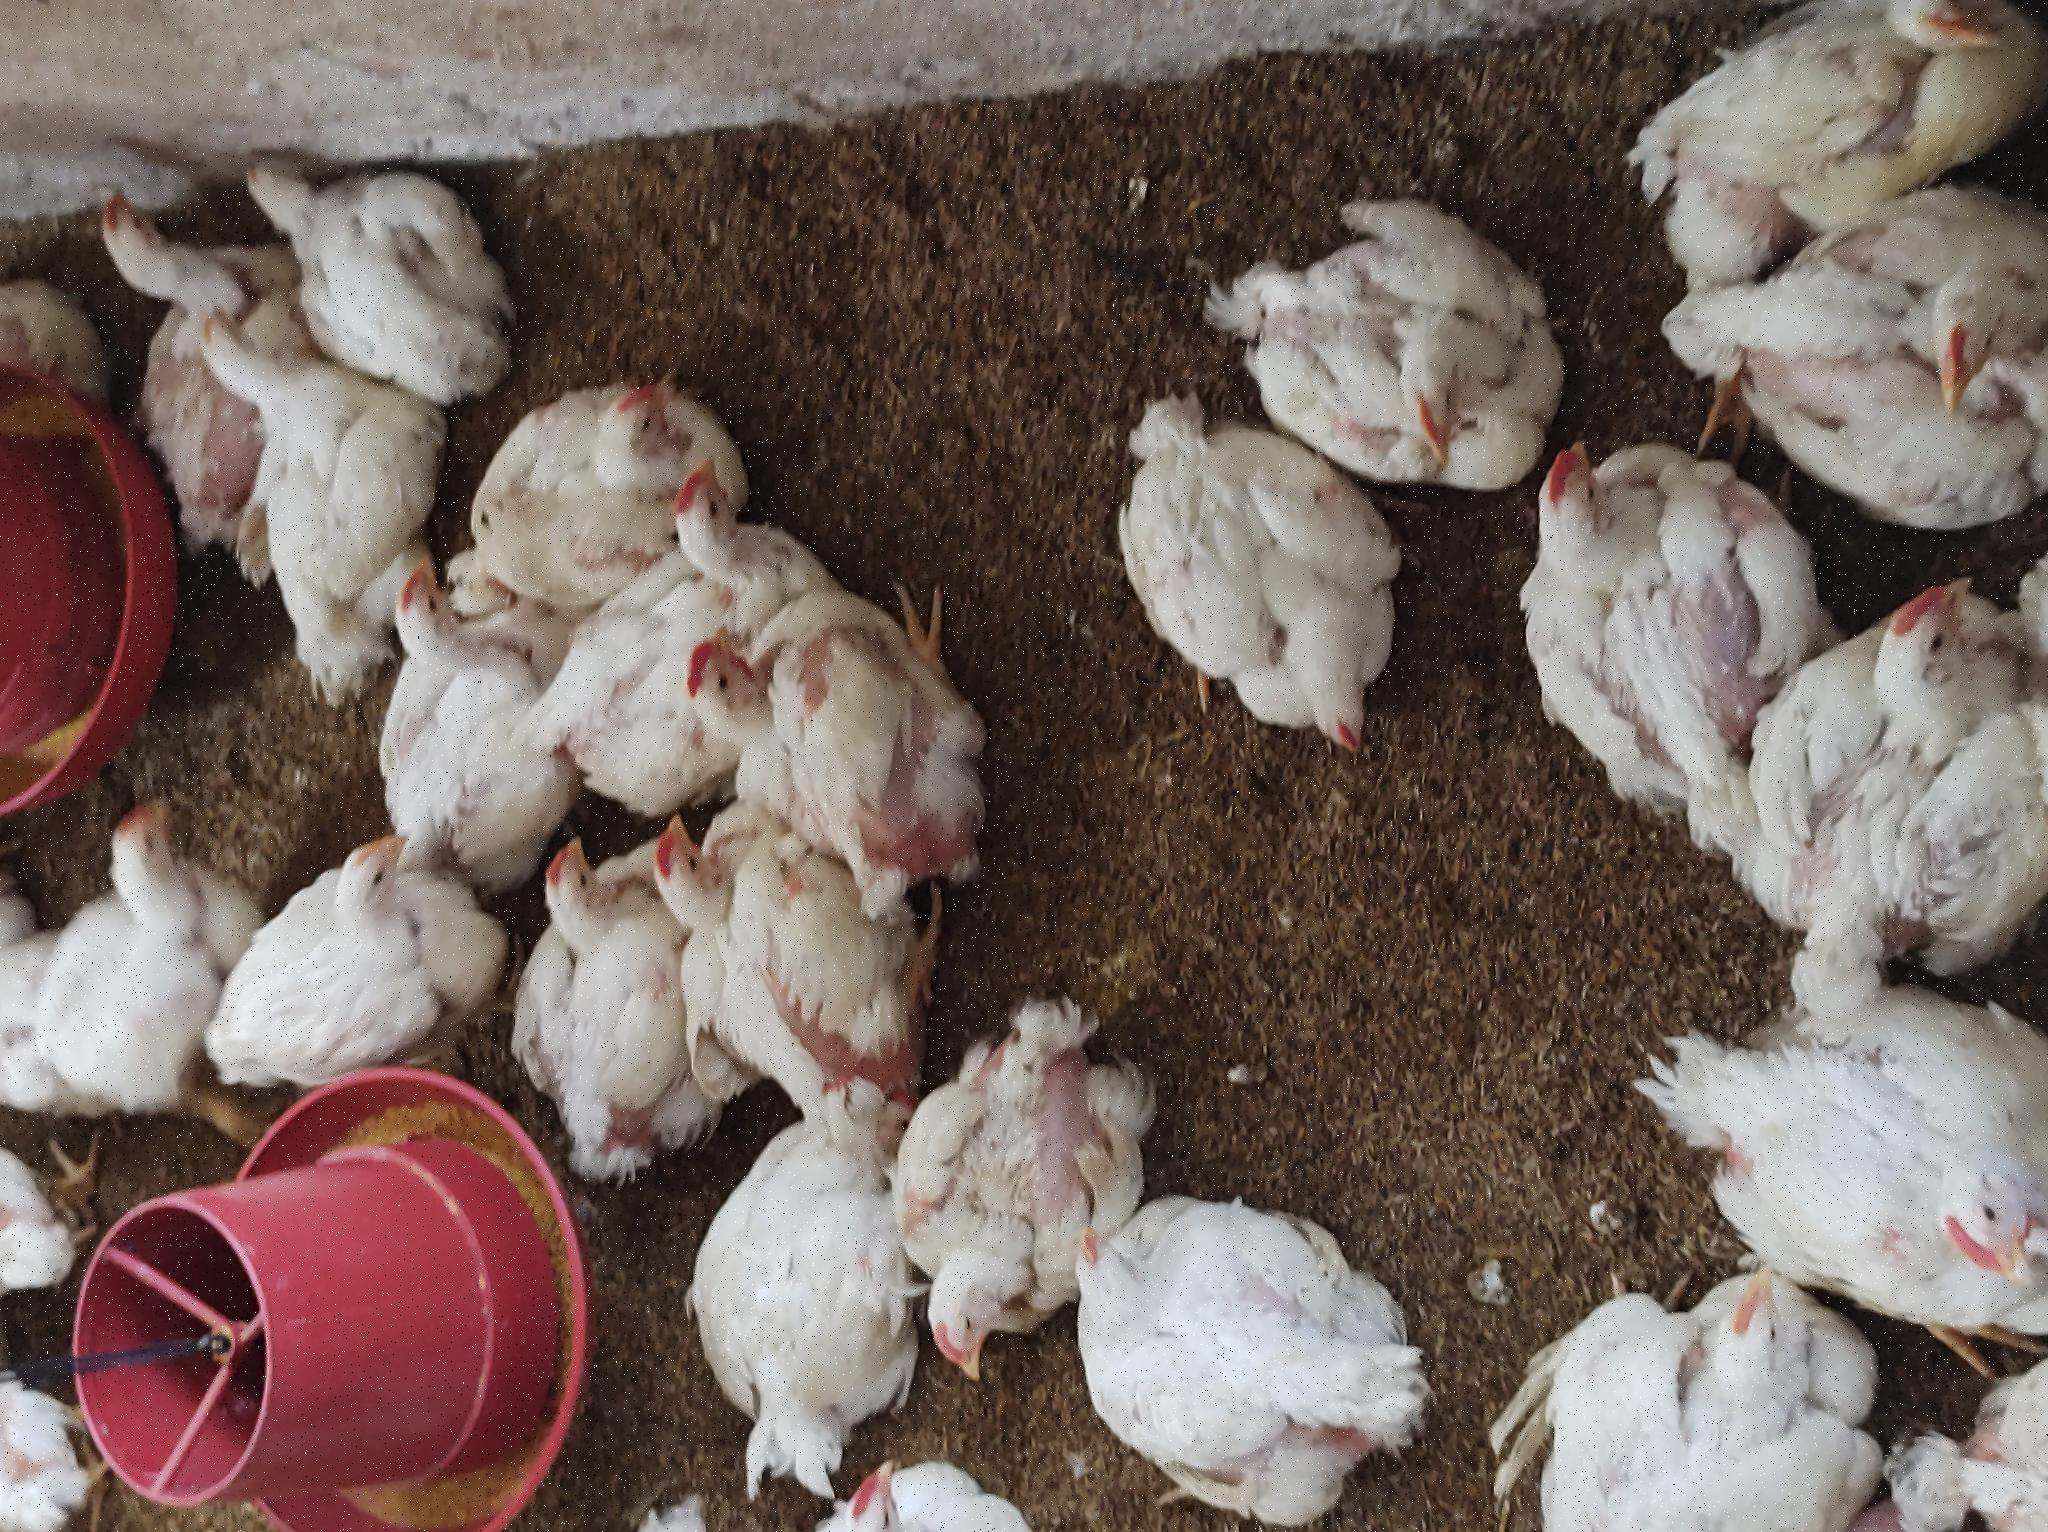Pollos: (13, 1065, 349, 1429), (772, 1143, 1149, 1415), (158, 895, 534, 1159), (439, 615, 713, 935), (72, 695, 450, 916), (1054, 1241, 1332, 1532), (431, 209, 701, 484), (689, 690, 914, 995), (402, 39, 772, 216), (943, 183, 1256, 388), (1202, 241, 1416, 499), (644, 377, 960, 544), (927, 460, 1162, 660), (368, 521, 698, 660), (2, 809, 111, 1043), (915, 673, 1075, 819), (1232, 79, 1351, 219), (243, 2, 397, 105), (2, 2, 167, 92)
